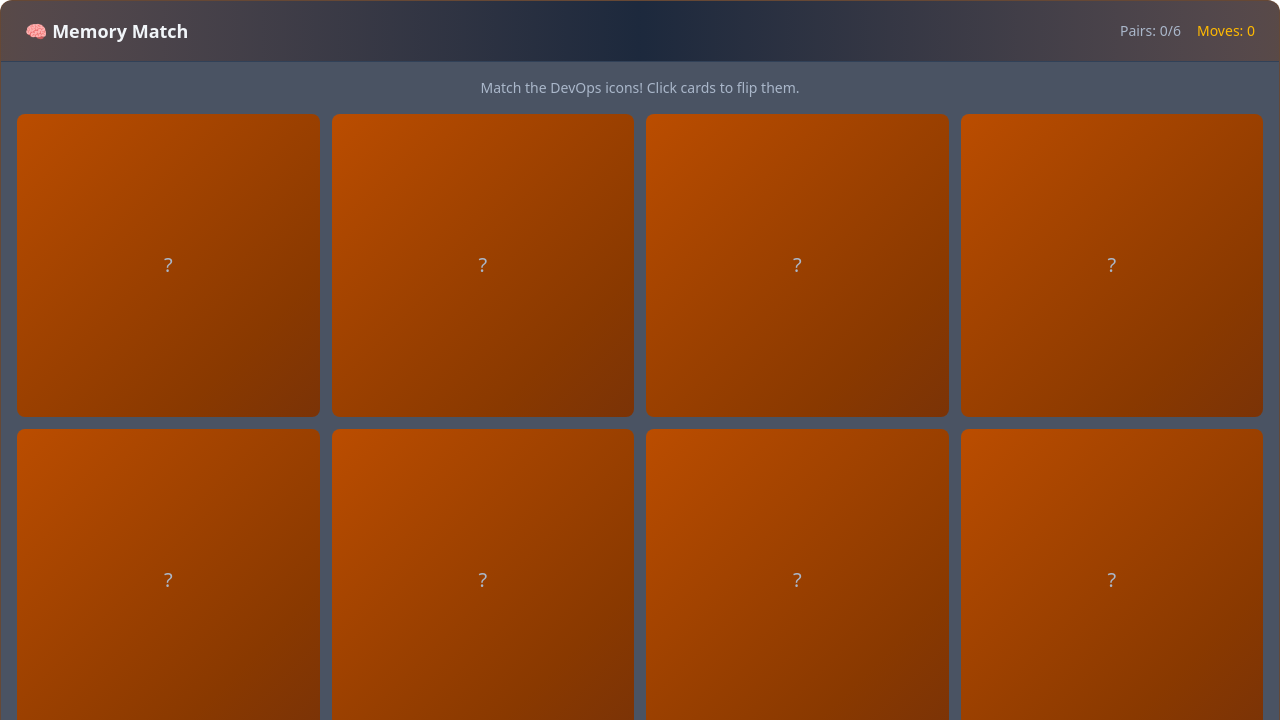
Test: MemoryMatch › ignores a third card while two are already flipped
The image size is (1280, 720).
Click the 1st button "?" at (168, 265), box [17,114,320,416]
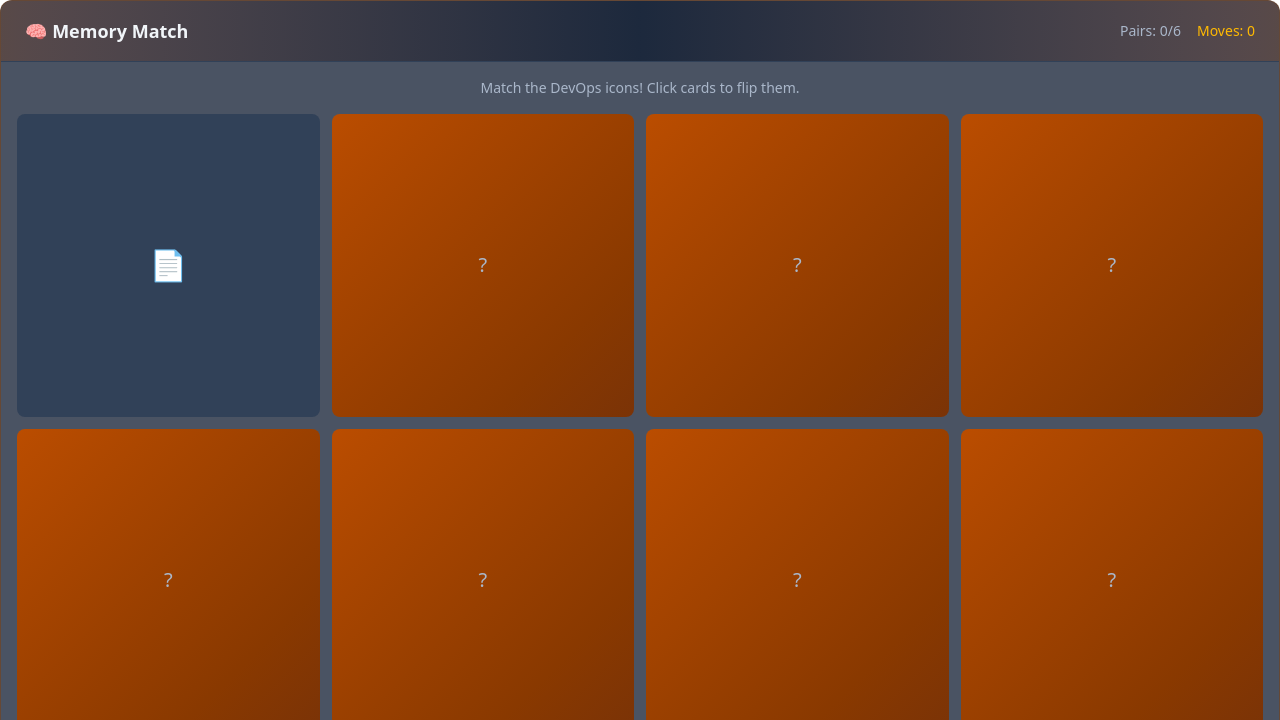
Click the 1st button "?" at (483, 265), box [332,114,634,416]
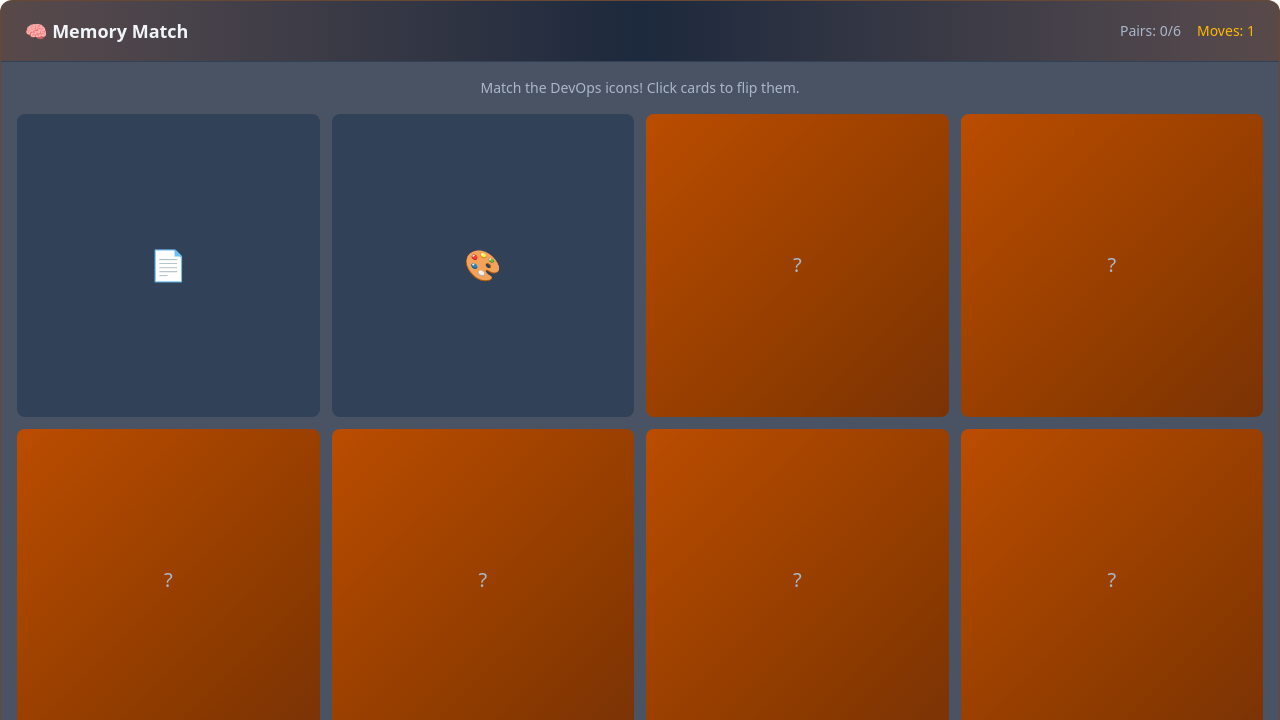
Click the 1st button "?" at (797, 265), box [646,114,948,416]
Wait 1000 ms
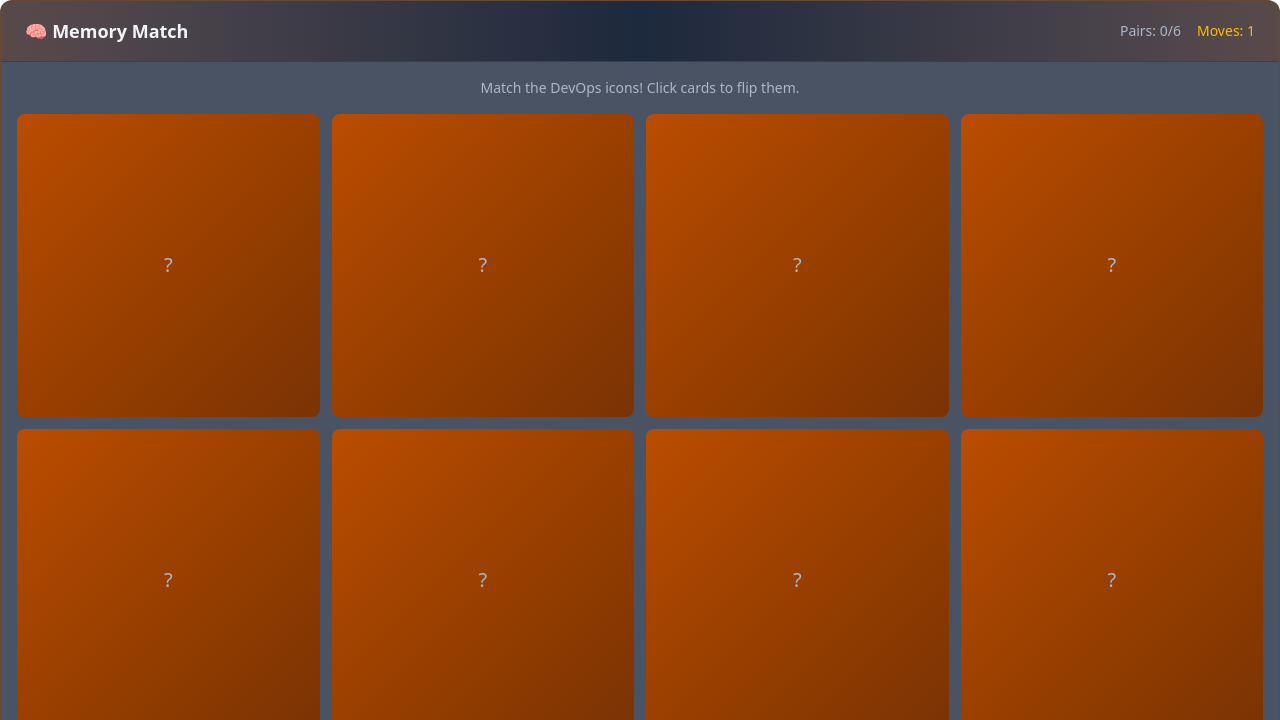
expect the text "Moves: 1" is shown: met, box [1197,21,1255,41]
expect the 1st button "?" is shown: met, box [17,114,320,416]
expect the 2nd button "?" is shown: met, box [332,114,634,416]
